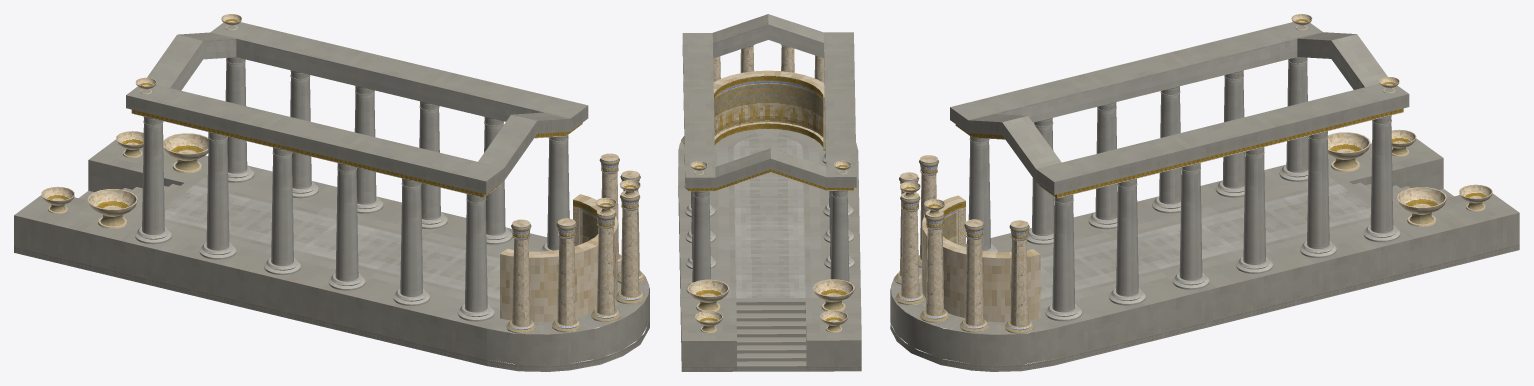
3 renders of one model, left to right at view 1: azimuth 30°, elevation 25°; view 2: azimuth 150°, elevation 25°; view 3: azimuth 270°, elevation 25°, orthographic. The views are drawn at different scales.
Parts seen in each view (by area): view 1: Object_1.004, Object_0.004, Object_4.005, Object_2.027, Object_3.005, Object_10.007, Object_13.007, Object_11.007, Object_12.007, Object_15.007, Object_5.015, Object_7.003; view 2: Object_1.004, Object_4.005, Object_2.027, Object_9.004, Object_0.004, Object_10.007, Object_3.005, Object_15.007, Object_7.003, Object_13.007, Object_5.015, Object_12.007 (+2 smaller); view 3: Object_1.004, Object_0.004, Object_4.005, Object_2.027, Object_3.005, Object_10.007, Object_13.007, Object_11.007, Object_12.007, Object_15.007, Object_5.015, Object_7.003.
Boxes of the visible parts, box(x1,y1,x2,y2) form: Object_1.004: box(14, 139, 649, 371); Object_0.004: box(135, 57, 569, 321); Object_4.005: box(126, 22, 588, 194); Object_2.027: box(164, 185, 499, 299); Object_3.005: box(170, 38, 543, 121); Object_10.007: box(500, 194, 617, 321); Object_13.007: box(591, 190, 644, 322); Object_11.007: box(506, 153, 621, 333); Object_12.007: box(552, 170, 645, 332); Object_15.007: box(87, 133, 208, 228); Object_5.015: box(131, 109, 582, 197); Object_7.003: box(41, 131, 143, 213); Object_1.004: box(678, 129, 861, 371); Object_4.005: box(682, 14, 856, 188); Object_2.027: box(733, 135, 805, 298); Object_9.004: box(714, 81, 823, 137); Object_0.004: box(684, 154, 855, 293); Object_10.007: box(713, 70, 825, 150); Object_3.005: box(713, 24, 826, 166); Object_15.007: box(687, 279, 854, 311); Object_7.003: box(695, 310, 847, 333); Object_13.007: box(740, 44, 794, 72); Object_5.015: box(687, 169, 853, 191); Object_12.007: box(713, 55, 824, 82); Object_1.004: box(890, 138, 1519, 371); Object_0.004: box(966, 57, 1400, 321); Object_4.005: box(950, 22, 1409, 194); Object_2.027: box(1040, 184, 1370, 298); Object_3.005: box(995, 38, 1364, 122); Object_10.007: box(922, 195, 1040, 322); Object_13.007: box(895, 192, 949, 322); Object_11.007: box(918, 155, 1034, 333); Object_12.007: box(894, 172, 988, 332); Object_15.007: box(1327, 132, 1446, 226); Object_5.015: box(955, 108, 1403, 198); Object_7.003: box(1391, 129, 1492, 211).
Size of the model in its own units: 2.4 by 1.13 by 3.17.
4 materials, 4 textured.
